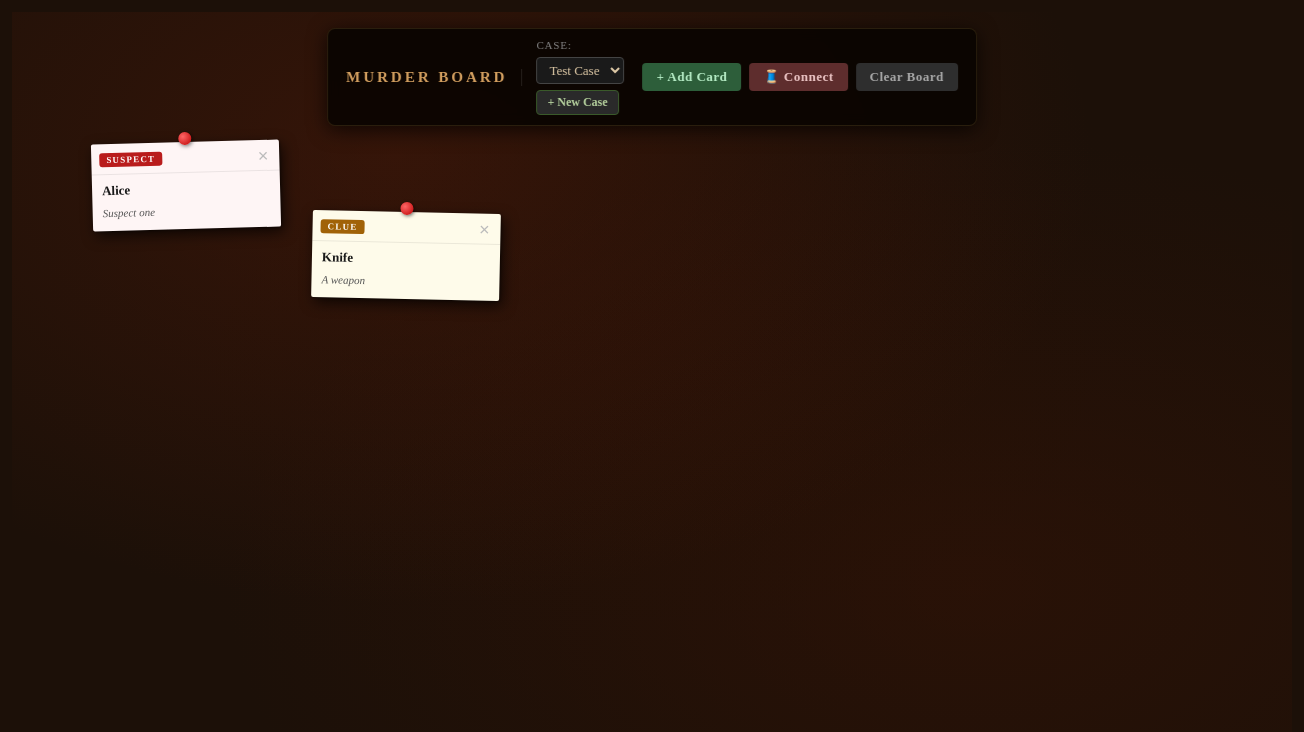
Scenario: Board › clears all cards when Clear Board is clicked
Click the button "Clear Board" at point(907, 77), box [856,63,958,91]
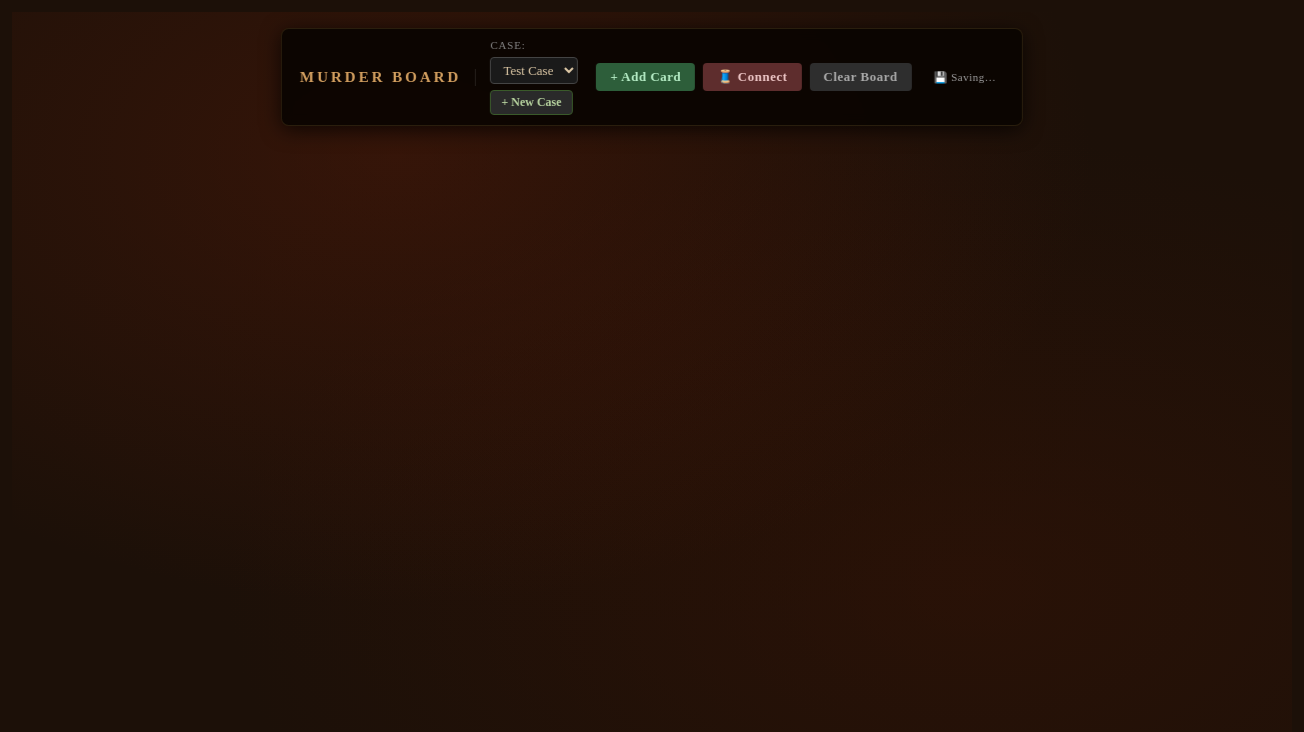
Expected: no buttons are shown
